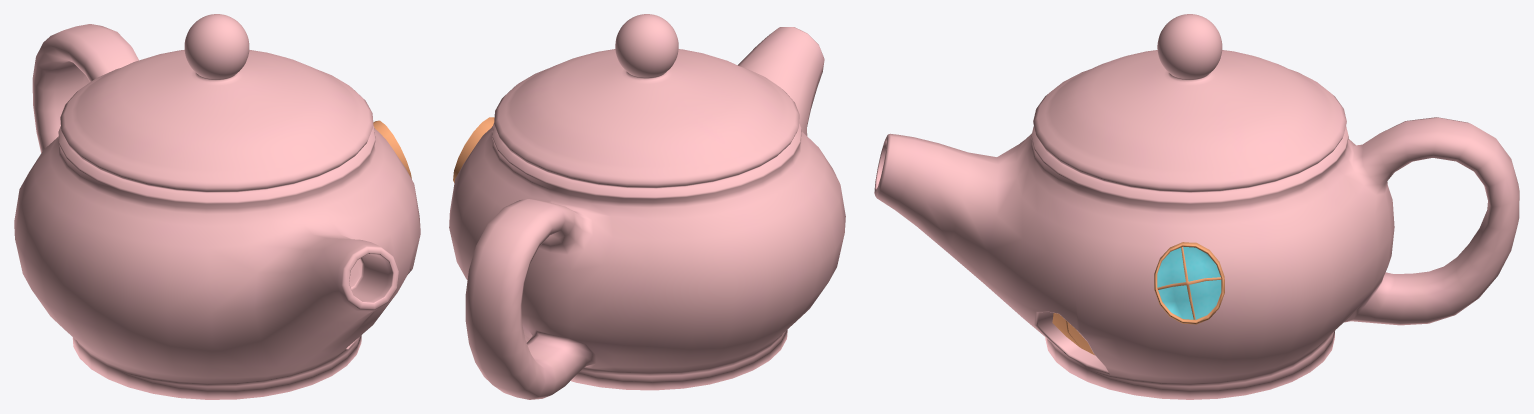
File: Kettle_1.fbx
The picture shows the model from 3 angles, left to right: view 1: azimuth 30°, elevation 25°; view 2: azimuth 150°, elevation 25°; view 3: azimuth 270°, elevation 25°; orthographic projection. The views are drawn at different scales.
Parts seen in each view (by area): view 1: Kettle 1.001; view 2: Kettle 1.001; view 3: Kettle 1.001.
Boxes of the visible parts, x1,y1,x2,y2 form: Kettle 1.001: (14,14,420,399); Kettle 1.001: (449,14,845,399); Kettle 1.001: (874,14,1519,399).
Bounding box in the file's own units: 868 × 737 × 1332.
